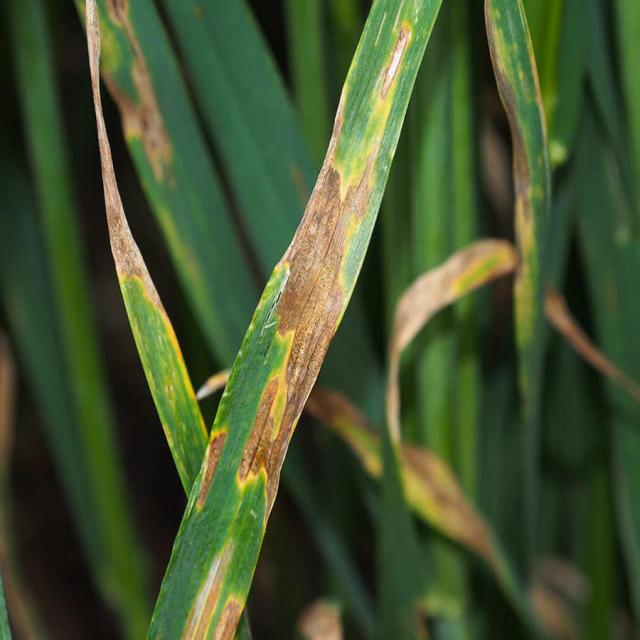wheat-septoria: (236, 92, 379, 528), (85, 0, 168, 314), (484, 0, 530, 224), (181, 538, 235, 640), (197, 431, 229, 512), (382, 22, 413, 95), (211, 596, 243, 640)
